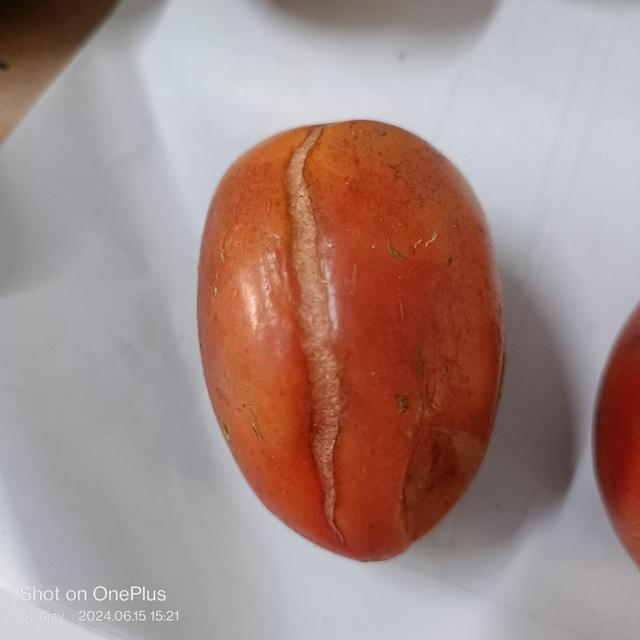Cracking Fruit: (91, 33, 285, 216)
